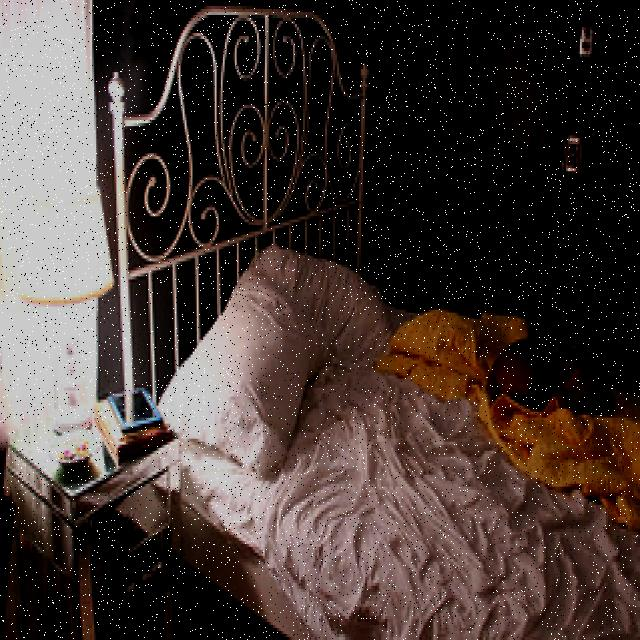bed: (168, 209, 640, 640)
